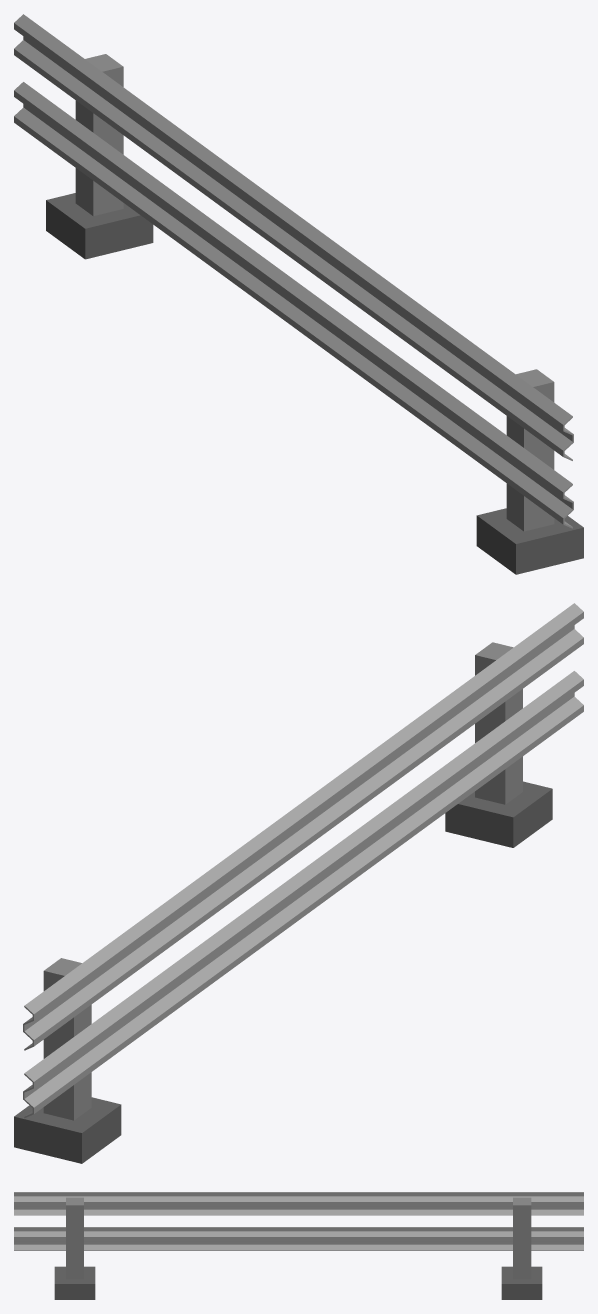
Rendered from FenceMetal4_2.fbx.
The picture shows the model from 3 angles, top to bottom: view 1: azimuth 30°, elevation 25°; view 2: azimuth 150°, elevation 25°; view 3: azimuth 270°, elevation 25°; orthographic projection. The views are drawn at different scales.
Parts seen in each view (by area): view 1: FenceMetal.023; view 2: FenceMetal.023; view 3: FenceMetal.023.
Part boxes in pixels (<box>): FenceMetal.023: <box>14,14,583,574</box>; FenceMetal.023: <box>14,603,583,1163</box>; FenceMetal.023: <box>14,1192,583,1299</box>.
Size of the model in its own units: 50 by 129 by 700.
